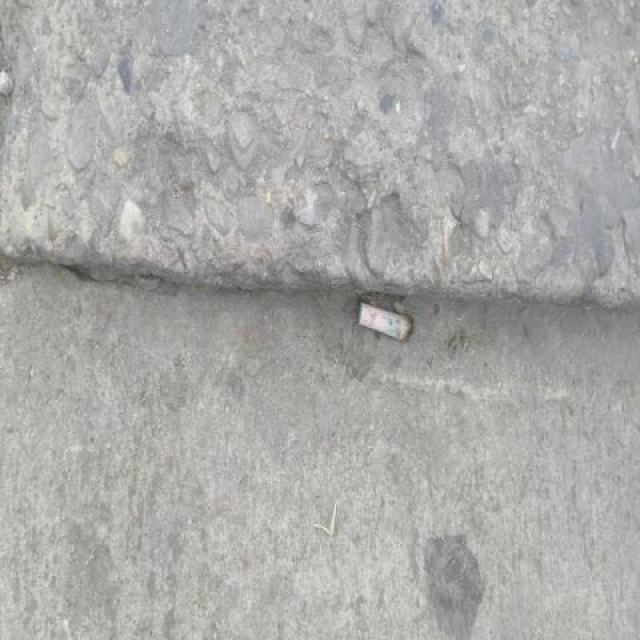non-organic waste: (354, 297, 418, 344)
